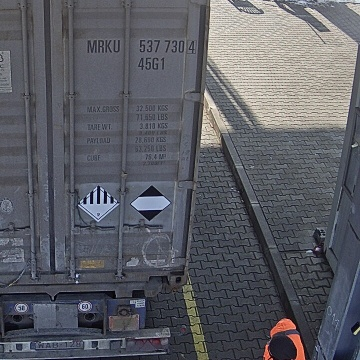serial_id: (87, 40, 195, 52)
